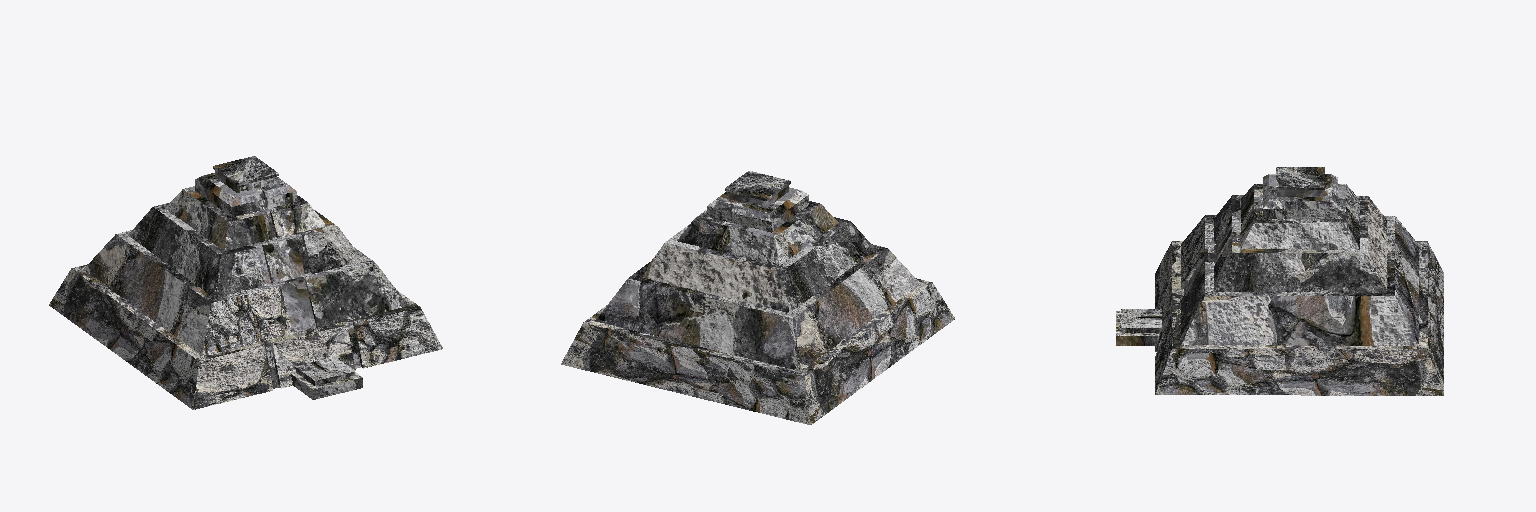
3 views of the same model, side by side, from view 1: azimuth 30°, elevation 25°; view 2: azimuth 150°, elevation 25°; view 3: azimuth 270°, elevation 25° (orthographic).
Parts seen in each view (by area): view 1: Piramide; view 2: Piramide; view 3: Piramide.
Boxes of the visible parts, x1,y1,x2,y2 form: Piramide: [49, 156, 442, 409]; Piramide: [561, 171, 954, 424]; Piramide: [1116, 167, 1443, 395].
Size of the model in its own units: 100 by 60.18 by 114.
1 materials, 1 textured.